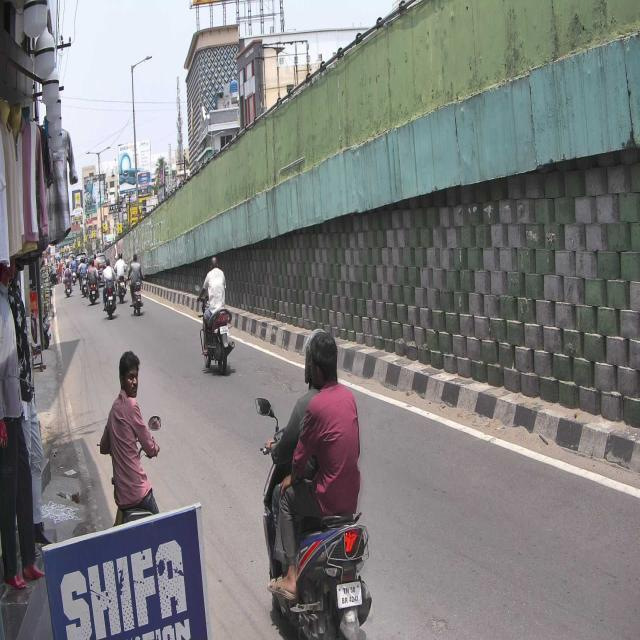double_rider: (254, 322, 373, 640)
